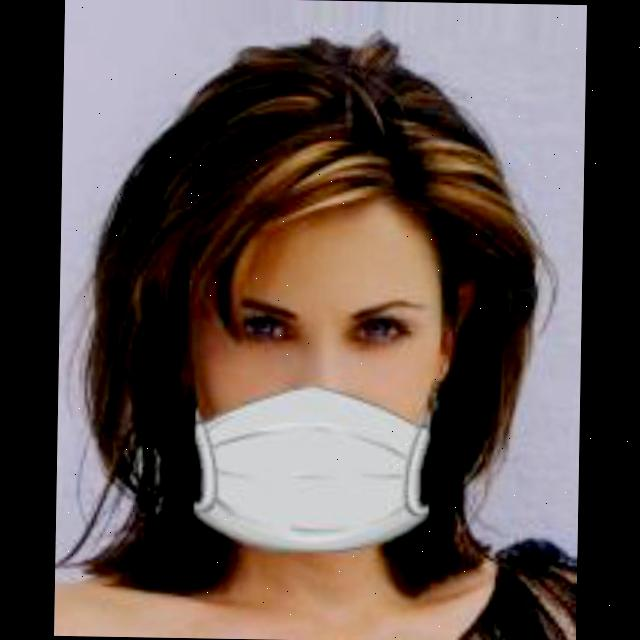suspicion: (180, 91, 460, 574)
